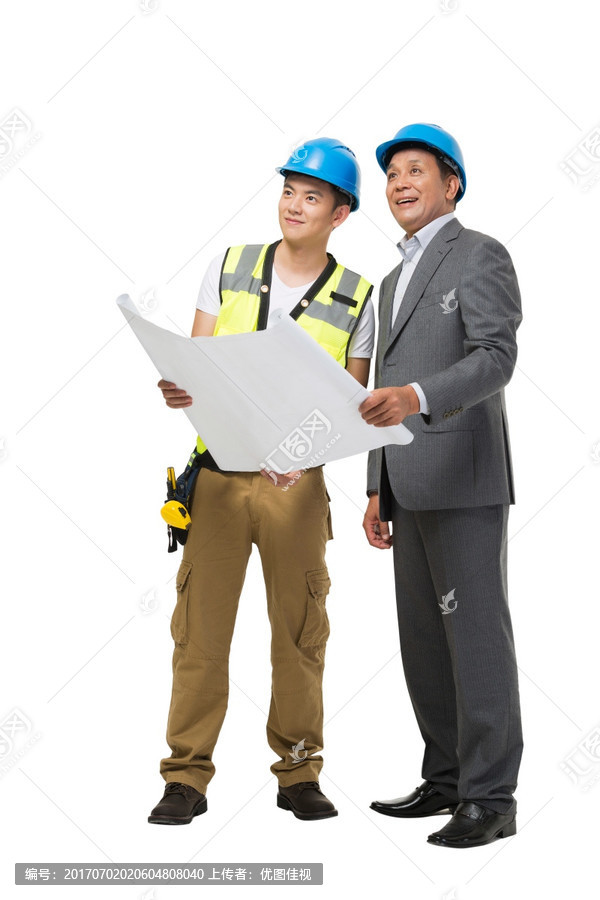safetyhat: (133, 93, 371, 811), (353, 118, 552, 834)
